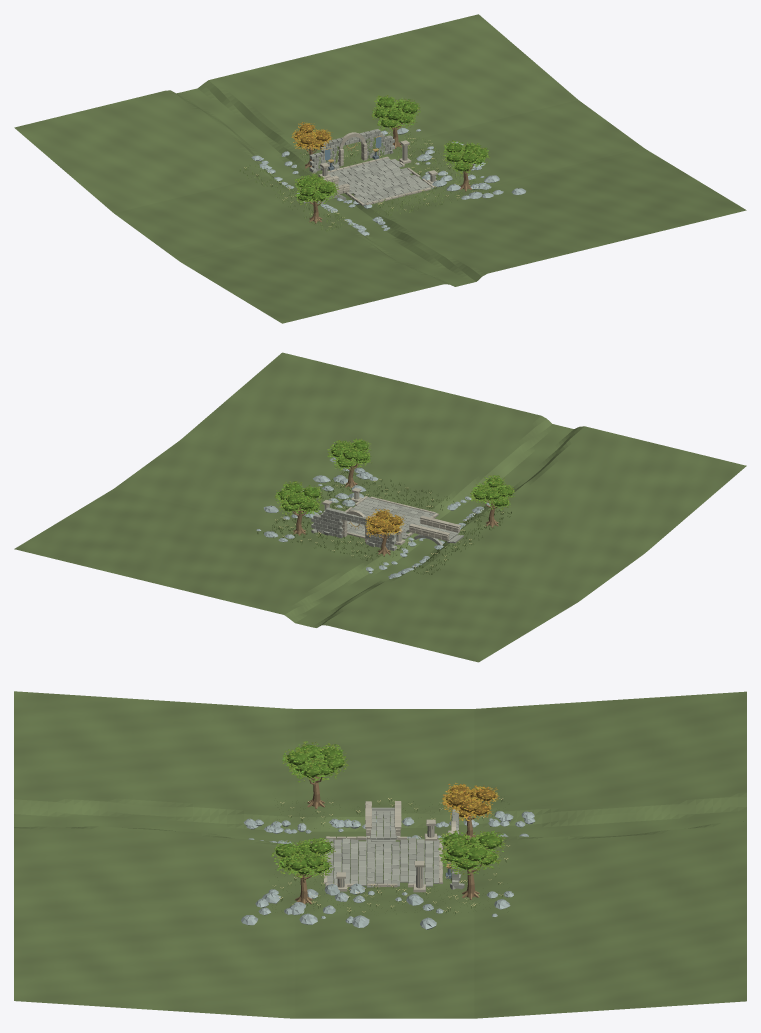
File: arena.glb
3 renders of one model, top to bottom at view 1: azimuth 30°, elevation 25°; view 2: azimuth 150°, elevation 25°; view 3: azimuth 270°, elevation 25°, orthographic. The views are drawn at different scales.
Parts seen in each view (by area): view 1: arena-earth, arena-limestone, arena-river-rock, arena-grass, arena-carved-stone; view 2: arena-earth, arena-limestone, arena-river-rock, arena-grass, arena-carved-stone, arena-bark; view 3: arena-earth, arena-limestone, arena-river-rock, arena-carved-stone, arena-bark.
Part boxes in pixels (<box>): arena-earth: <box>14,14,746,323</box>; arena-limestone: <box>294,129,435,205</box>; arena-river-rock: <box>251,127,525,235</box>; arena-grass: <box>239,126,493,231</box>; arena-carved-stone: <box>299,132,437,205</box>; arena-earth: <box>14,352,746,662</box>; arena-limestone: <box>311,492,463,550</box>; arena-river-rock: <box>256,457,490,578</box>; arena-grass: <box>257,470,511,574</box>; arena-carved-stone: <box>322,487,460,545</box>; arena-bark: <box>293,465,498,556</box>; arena-earth: <box>14,691,746,1018</box>; arena-limestone: <box>325,807,464,889</box>; arena-river-rock: <box>241,811,535,929</box>; arena-carved-stone: <box>323,801,455,892</box>; arena-bark: <box>295,776,479,904</box>.
Size of the model in its own units: 64.5 by 7.59 by 64.5.
